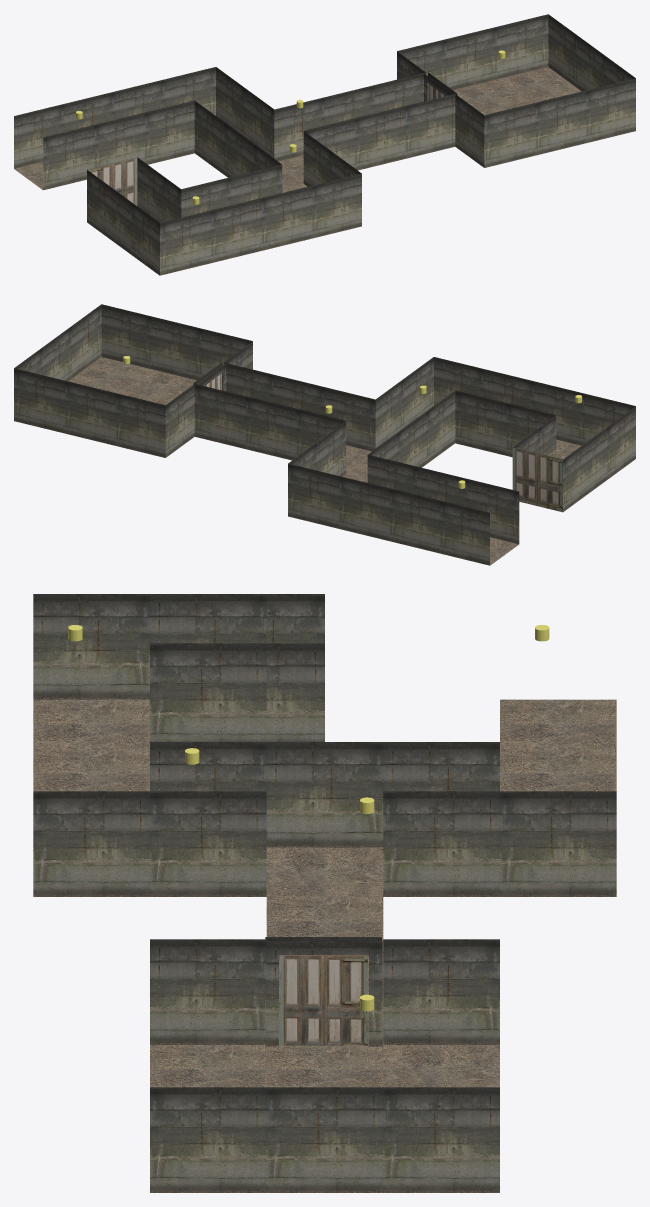
File: gamelevel2.dae
3 renders of one model, top to bottom at view 1: azimuth 30°, elevation 25°; view 2: azimuth 150°, elevation 25°; view 3: azimuth 270°, elevation 25°, orthographic. The views are drawn at different scales.
Visible parts, largest first — view 1: Corner_004, Corridor_011, Corner_007, Corner_001, Corridor_006, DeadEnd_001, Corridor_001, Corridor_007, Corridor_002, Corridor_009, Wall_002, Corridor_004 (+12 smaller); view 2: Corner_003, Corridor_011, DeadEnd_001, Corner_002, Corridor_007, Corridor_001, Corridor_006, Corridor_002, Corridor_008, Wall_001, Corridor_004, Corridor_009 (+12 smaller); view 3: Corridor_003, Wall_004, Corridor_005, Corner_007, Corner_002, Corner_001, Corridor_010, Wall_003, Corner_003, Corner_004, Corner_005, Corner_006 (+8 smaller).
Boxes of the visible parts, x1,y1,x2,y2 form: Corner_004: (498,14,577,100); Corridor_011: (14,104,93,190); Corner_007: (130,202,210,275); Corner_001: (455,94,534,167); Corridor_006: (231,164,311,250); DeadEnd_001: (87,157,166,242); Corridor_001: (375,72,455,158); Corridor_007: (115,79,194,164); Corridor_002: (325,85,404,170); Corridor_009: (181,177,260,263); Wall_002: (447,26,526,111); Corridor_004: (274,97,354,183); Corner_003: (72,304,151,390); Corridor_011: (439,479,519,565); DeadEnd_001: (512,426,592,512); Corner_002: (115,384,194,457); Corridor_007: (338,454,418,540); Corridor_001: (194,362,274,448); Corridor_006: (455,369,534,455); Corridor_002: (245,375,324,460); Corridor_008: (389,467,468,553); Wall_001: (123,316,202,401); Corridor_004: (295,387,375,473); Corridor_009: (505,381,585,459); Corridor_003: (383,742,499,896); Wall_004: (266,742,383,896); Corridor_005: (150,742,266,896); Corner_007: (33,594,149,748); Corner_002: (383,939,499,1087); Corner_001: (150,939,266,1087); Corridor_010: (150,594,266,741); Wall_003: (266,1087,383,1192); Corner_003: (150,1087,266,1192); Corner_004: (383,1087,499,1192); Corner_005: (33,791,149,896); Corner_006: (500,791,616,896).
Bounding box in the file's own units: 20 × 10 × 2.23.
3 materials, 2 textured.
